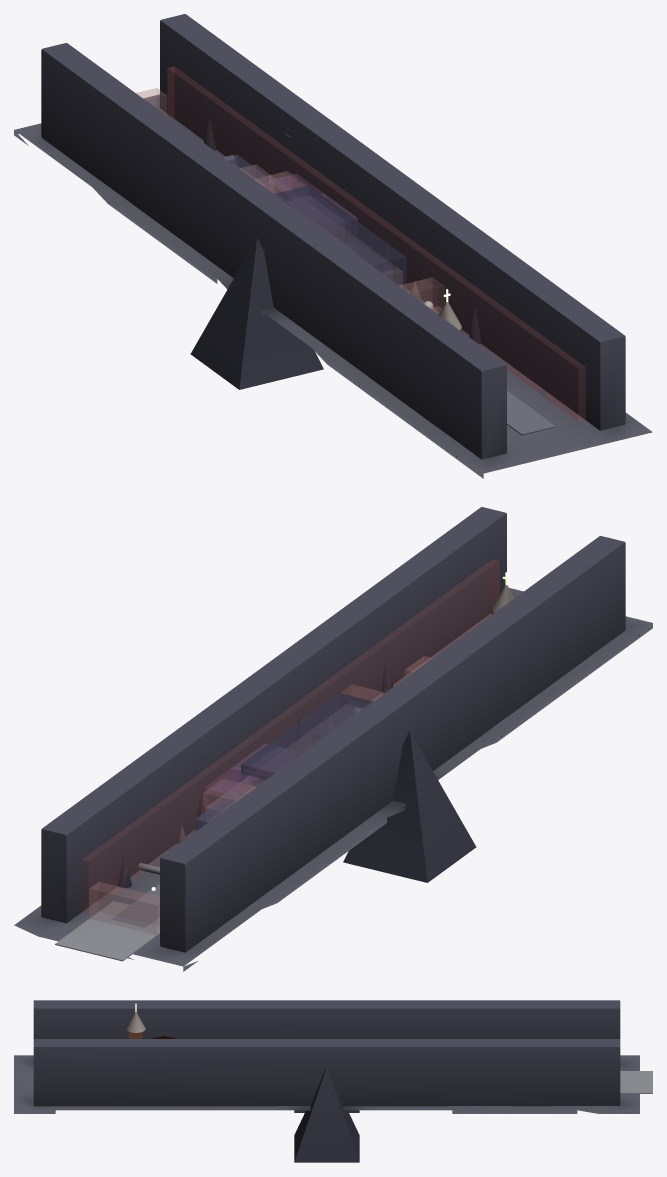
File: valley_shadow_death.glb
3 views of the same model, one above another, from view 1: azimuth 30°, elevation 25°; view 2: azimuth 150°, elevation 25°; view 3: azimuth 270°, elevation 25° (orthographic). The views are drawn at different scales.
Parts seen in each view (by area): view 1: ENV_ShadowValley_RightWall, ENV_ShadowValley_LeftWall, COL_NarrowCliffEdge, ENV_ShadowValley_Ground, VIS_PROP_Ridge_ChasmL, COL_DarknessDeepZone, TRIGGER_ShadowCollapseCheck, ENV_ShadowValley_NarrowPath, TRIGGER_ShadowValleyEntry, COL_FearZone_03; view 2: ENV_ShadowValley_RightWall, ENV_ShadowValley_LeftWall, COL_NarrowCliffEdge, ENV_ShadowValley_Ground, VIS_PROP_Ridge_ChasmL, COL_DarknessDeepZone, ENV_ShadowValley_ExitSlope, TRIGGER_Exit_VerticalSliceEnd, COL_FalseVoiceZone_Right, TRIGGER_ShadowCollapseCheck, ENV_ShadowValley_NarrowPath, COL_FalseVoiceZone_Ledge (+1 smaller); view 3: ENV_ShadowValley_LeftWall, ENV_ShadowValley_RightWall, ENV_ShadowValley_Ground, VIS_PROP_Ridge_ChasmR, ENV_ShadowValley_ExitSlope, VIS_PROP_Chapel.
Boxes of the visible parts, box(x1,y1,x2,y2) form: ENV_ShadowValley_RightWall: box(41, 43, 506, 459); ENV_ShadowValley_LeftWall: box(160, 14, 625, 430); COL_NarrowCliffEdge: box(167, 66, 585, 421); ENV_ShadowValley_Ground: box(14, 94, 652, 478); VIS_PROP_Ridge_ChasmL: box(190, 238, 323, 389); COL_DarknessDeepZone: box(274, 185, 406, 290); TRIGGER_ShadowCollapseCheck: box(239, 164, 402, 287); ENV_ShadowValley_NarrowPath: box(507, 391, 555, 435); TRIGGER_ShadowValleyEntry: box(399, 277, 444, 307); COL_FearZone_03: box(286, 194, 357, 238); ENV_ShadowValley_RightWall: box(160, 536, 625, 952); ENV_ShadowValley_LeftWall: box(41, 507, 506, 923); COL_NarrowCliffEdge: box(81, 559, 499, 913); ENV_ShadowValley_Ground: box(14, 588, 652, 971); VIS_PROP_Ridge_ChasmL: box(343, 731, 476, 882); COL_DarknessDeepZone: box(241, 693, 373, 786); ENV_ShadowValley_ExitSlope: box(55, 901, 159, 961); TRIGGER_Exit_VerticalSliceEnd: box(89, 882, 159, 934); COL_FalseVoiceZone_Right: box(204, 767, 259, 806); TRIGGER_ShadowCollapseCheck: box(205, 704, 349, 820); ENV_ShadowValley_NarrowPath: box(111, 884, 159, 927); COL_FalseVoiceZone_Ledge: box(234, 744, 300, 779); ENV_ShadowValley_LeftWall: box(33, 1039, 620, 1106); ENV_ShadowValley_RightWall: box(33, 1000, 620, 1038); ENV_ShadowValley_Ground: box(14, 1055, 639, 1113); VIS_PROP_Ridge_ChasmR: box(294, 1067, 359, 1162); ENV_ShadowValley_ExitSlope: box(620, 1071, 652, 1093); VIS_PROP_Chapel: box(126, 1012, 145, 1032).
Size of the model in its own units: 28 by 18.71 by 98.
32 materials, 2 textured.
